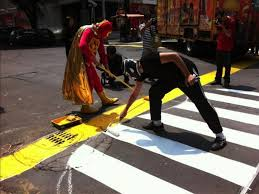mask: (96, 14, 112, 41), (120, 57, 140, 76), (212, 7, 228, 26), (143, 12, 153, 28)
